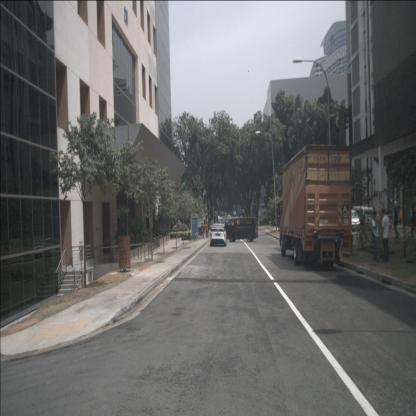human-pedestrian-adult: (381, 209, 389, 262), (372, 211, 379, 262), (393, 208, 400, 240), (410, 203, 416, 234), (200, 223, 204, 238), (205, 222, 208, 238), (207, 223, 210, 239), (203, 223, 205, 237)
vehicle-car: (224, 216, 258, 242), (352, 206, 374, 227), (340, 210, 360, 232), (210, 224, 226, 246), (238, 212, 245, 219)
vehicle-truck: (280, 145, 352, 266)
